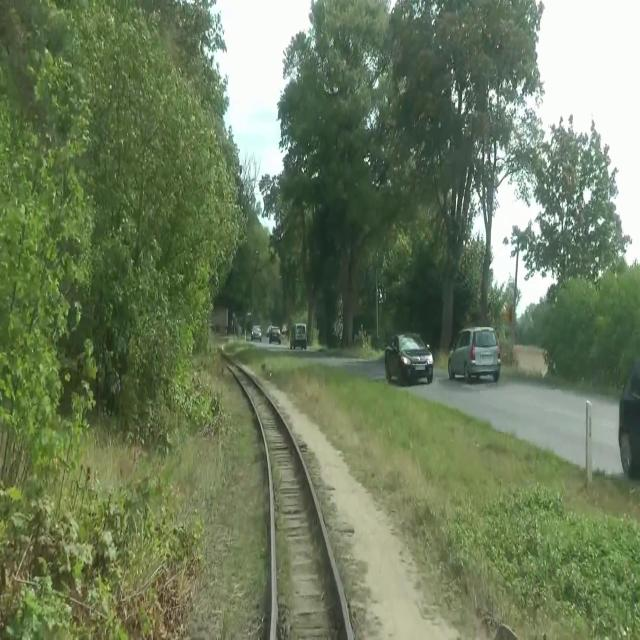rail-track: (225, 360, 347, 639)
